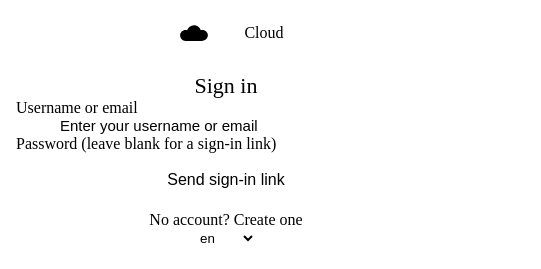
it: shows an error message when login fails
Expected: the form with test id "login-form" is shown, 16,99 -> 436,189
In the field with test id "login-username-input": (248, 126) 16,117 -> 480,134, type "admin"
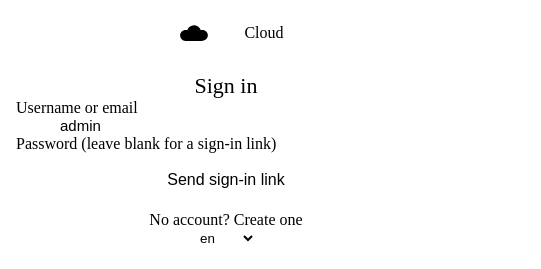
In the password field with test id "login-password-input": (270, 162) 16,153 -> 524,170, type "wrong"
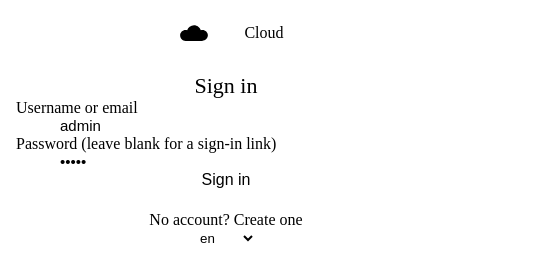
Click the button with test id "login-submit-btn": click(226, 180) 16,171 -> 436,189
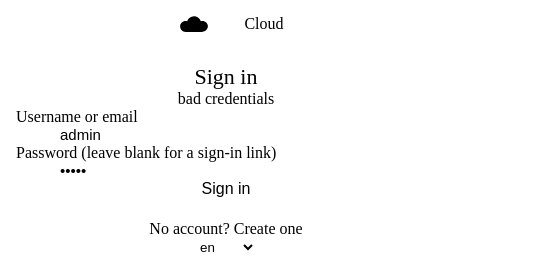
Expected: the text "bad credentials" is shown, 178,90 -> 274,107
